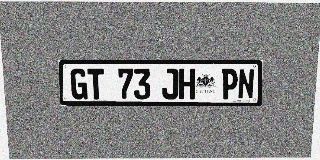3: (134, 69, 150, 99)
7: (117, 69, 134, 99)
G: (70, 69, 88, 99)
H: (179, 69, 195, 99)
J: (162, 69, 178, 99)
N: (238, 69, 255, 99)
P: (221, 69, 238, 99)
T: (87, 69, 104, 99)
